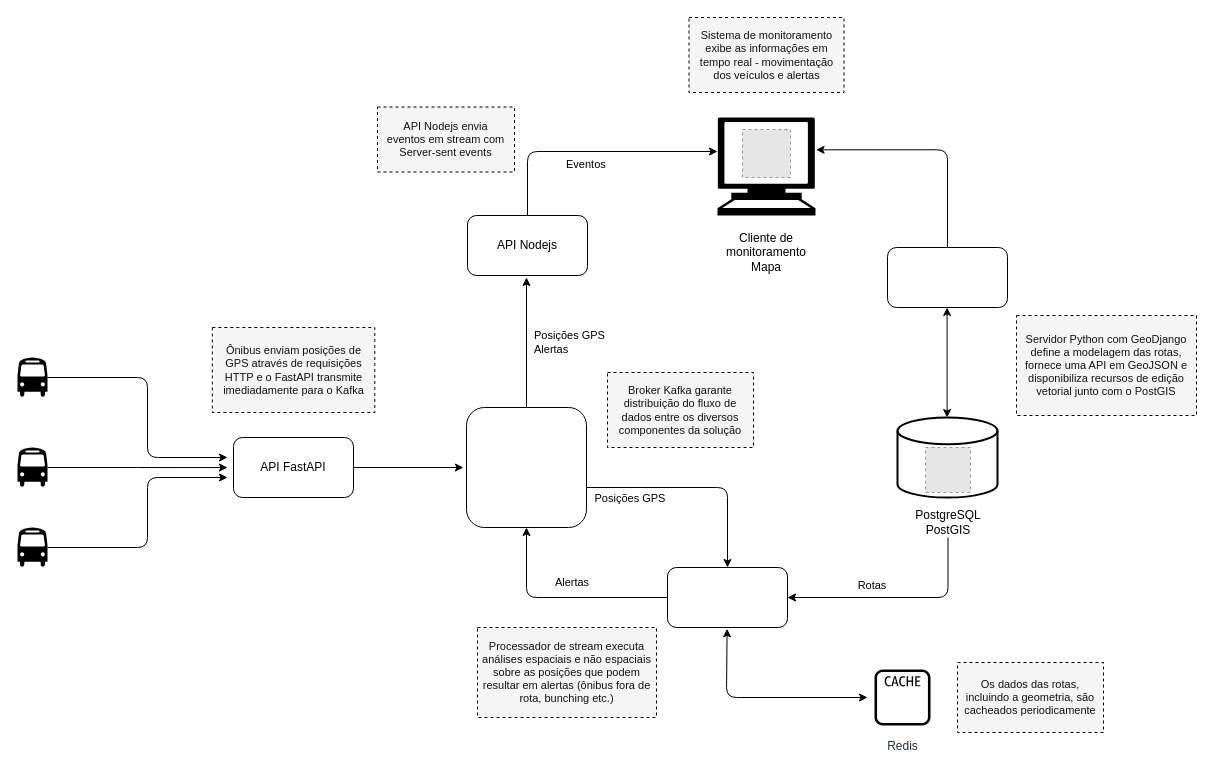
This 1214x771 diagram has some shape labels left out. Grey dashed boxes stand in for pictures. Each missing label, with the box of its shape:
Broker Apache Kafka: (466, 406, 586, 528)
Processador de Stream Faust: (666, 566, 788, 628)
Servidor Django: (886, 246, 1008, 308)
